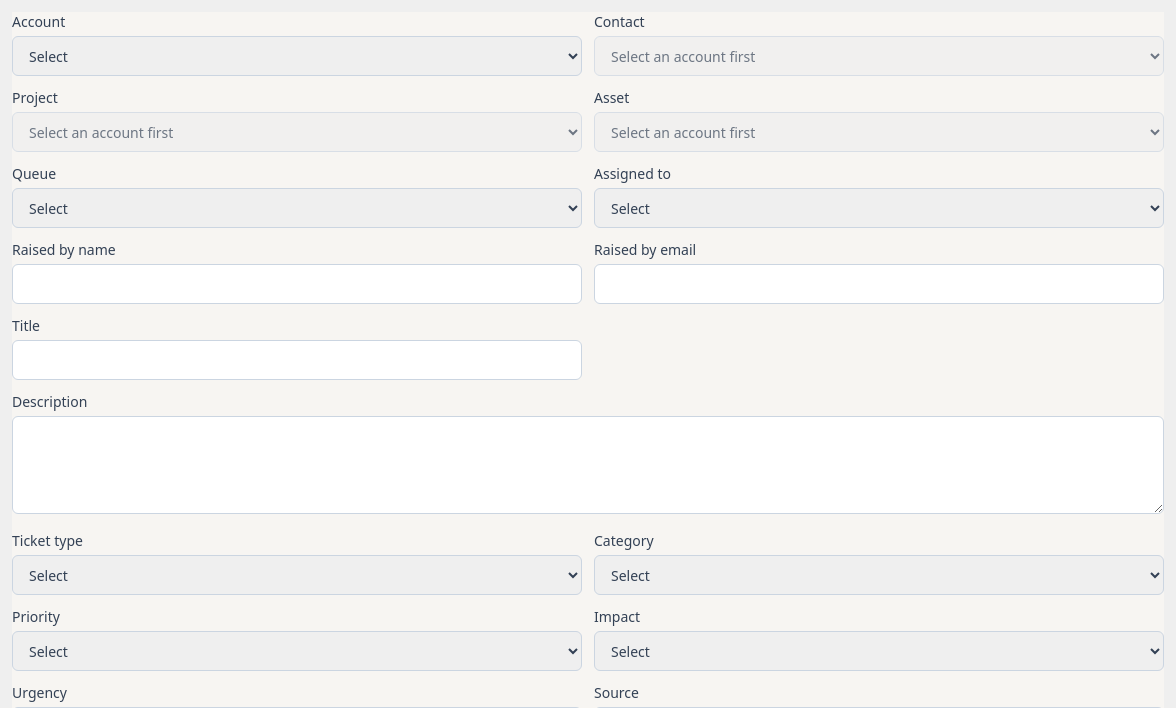
it: helpdesk ticket form › disables dependent selectors until an account is selected and filters options by account
Check: the dropdown labelled "Contact" is disabled, box [594,36,1164,76]
Check: the dropdown labelled "Project" is disabled, box [12,112,582,152]
Select "Hilton Leeds" in the dropdown labelled "Account" at (297, 56), box [12,36,582,76]
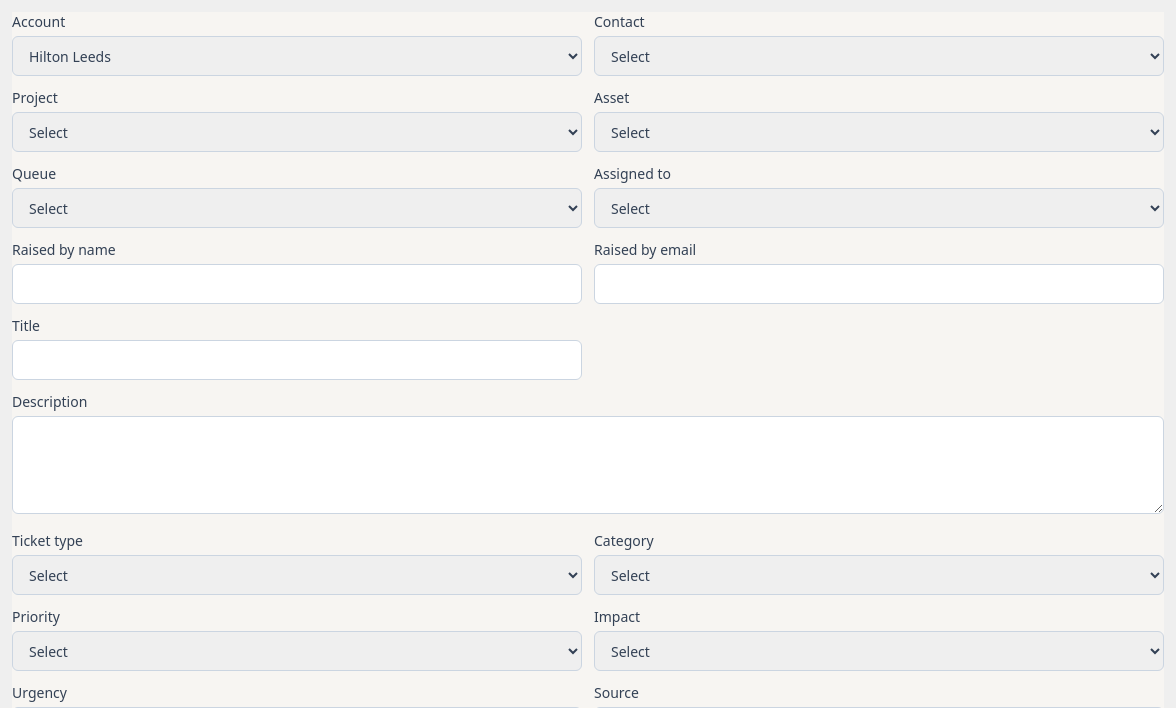
Check: the dropdown labelled "Contact" is enabled, box [594,36,1164,76]
